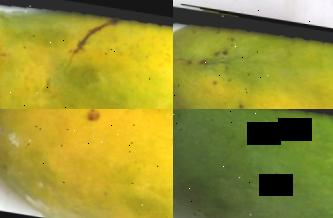PartiallyRipe: (0, 0, 173, 109), (0, 109, 173, 218), (173, 1, 333, 109)
Unripe: (173, 109, 333, 218)
